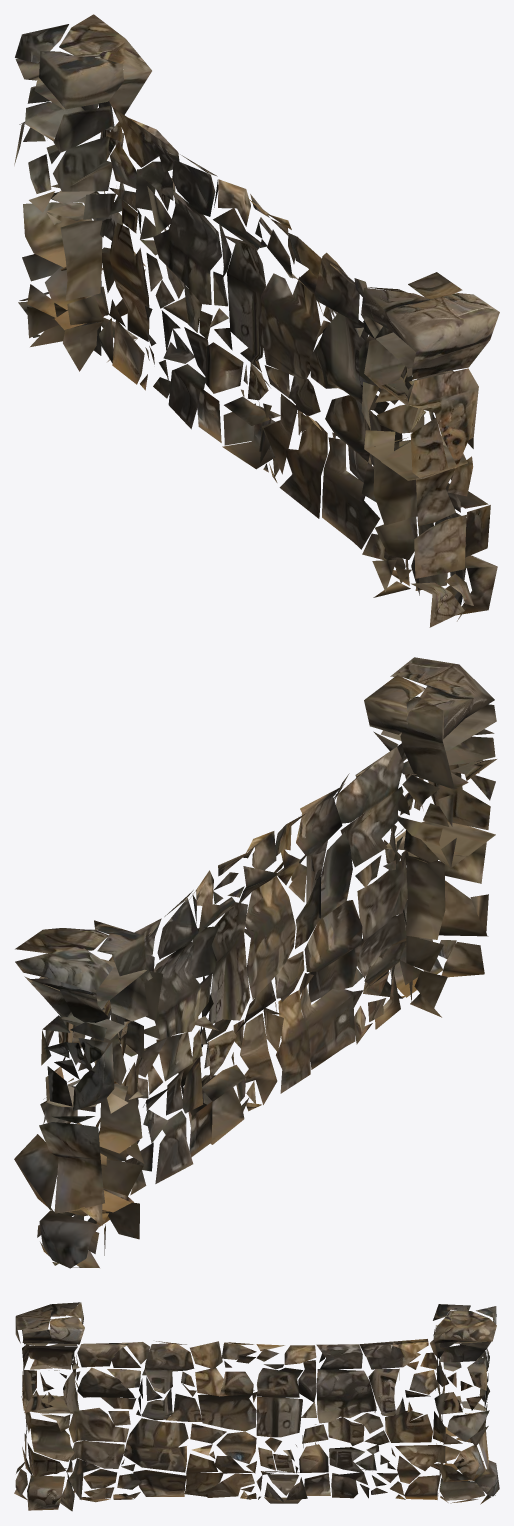
File: arch_wall_vaelor_LOD3.glb
3 renders of one model, top to bottom at view 1: azimuth 30°, elevation 25°; view 2: azimuth 150°, elevation 25°; view 3: azimuth 270°, elevation 25°, orthographic. The views are drawn at different scales.
Parts seen in each view (by area): view 1: tripo_node_d9f77c95-5727-4263-9154-96b5edb6edef; view 2: tripo_node_d9f77c95-5727-4263-9154-96b5edb6edef; view 3: tripo_node_d9f77c95-5727-4263-9154-96b5edb6edef.
Part boxes in pixels (x1,y1,x2,y2): tripo_node_d9f77c95-5727-4263-9154-96b5edb6edef: (14,14,499,627); tripo_node_d9f77c95-5727-4263-9154-96b5edb6edef: (14,657,496,1268); tripo_node_d9f77c95-5727-4263-9154-96b5edb6edef: (14,1302,499,1511).
Size of the model in its own units: 0.1503 by 0.4219 by 1.
Materials: 1 (1 with a texture image).
